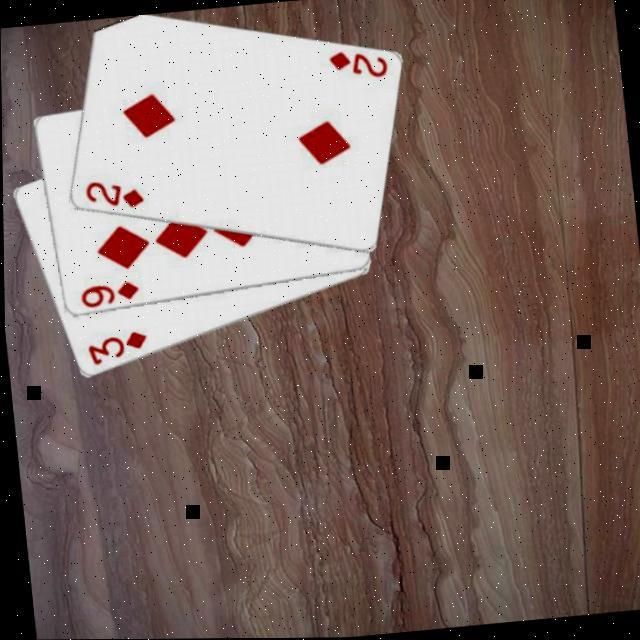2D: (323, 46, 390, 86), (80, 176, 145, 215)
3D: (81, 328, 150, 371)
9D: (74, 278, 140, 310)
